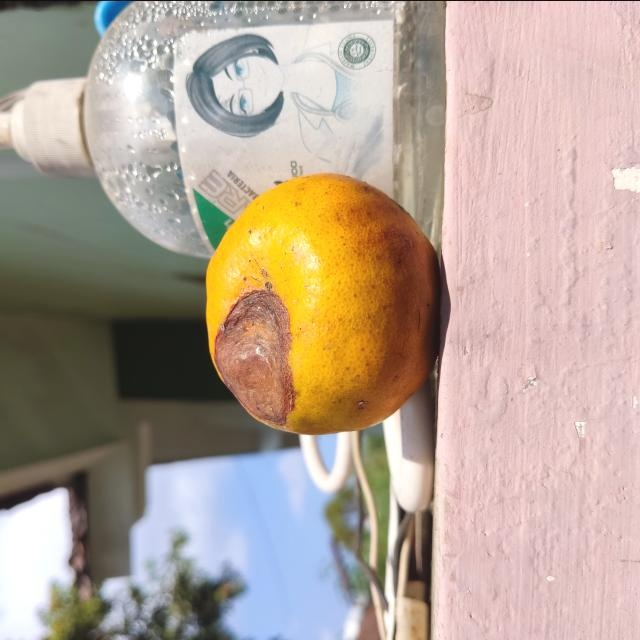agrume: (201, 171, 439, 437)
